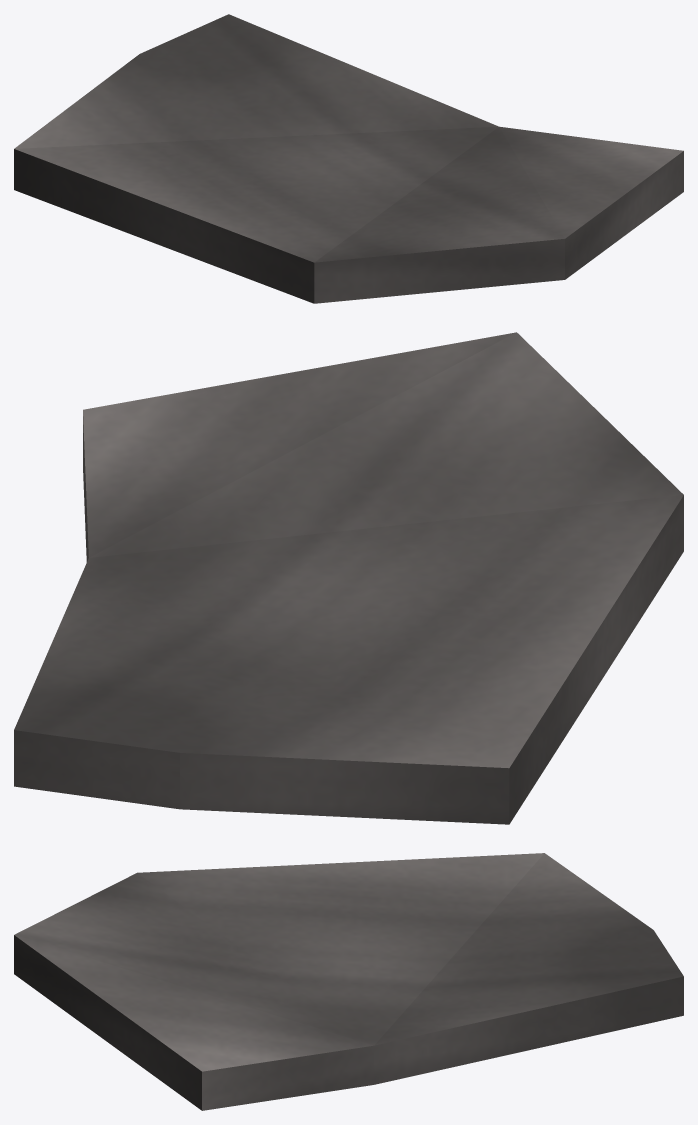
The model's file is crashed_pod_shard3_v1.fbx.
3 renders of one model, top to bottom at view 1: azimuth 30°, elevation 25°; view 2: azimuth 150°, elevation 25°; view 3: azimuth 270°, elevation 25°, orthographic. The views are drawn at different scales.
Visible parts, largest first — view 1: crashed_pod_shard3_v1; view 2: crashed_pod_shard3_v1; view 3: crashed_pod_shard3_v1.
Boxes of the visible parts, left/top/right/bottom form: crashed_pod_shard3_v1: left=14, top=14, right=683, bottom=303; crashed_pod_shard3_v1: left=14, top=332, right=683, bottom=824; crashed_pod_shard3_v1: left=14, top=853, right=683, bottom=1110.
Size of the model in its own units: 37.41 by 7.09 by 46.43.
Materials: 1 (1 with a texture image).
